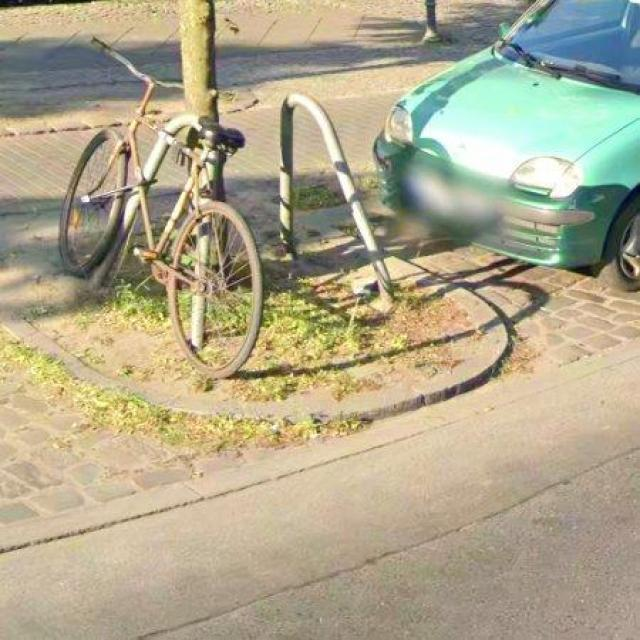bicycle: (43, 21, 294, 382)
car: (349, 3, 640, 304)
